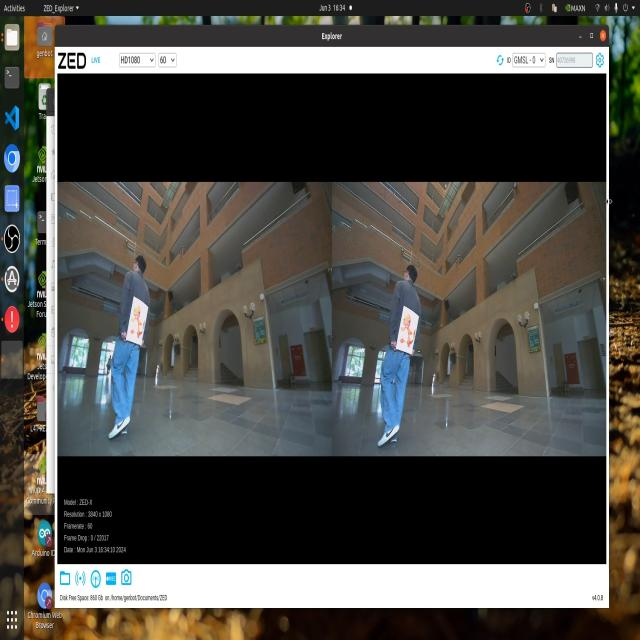red: (398, 307, 415, 359), (130, 302, 145, 350)
